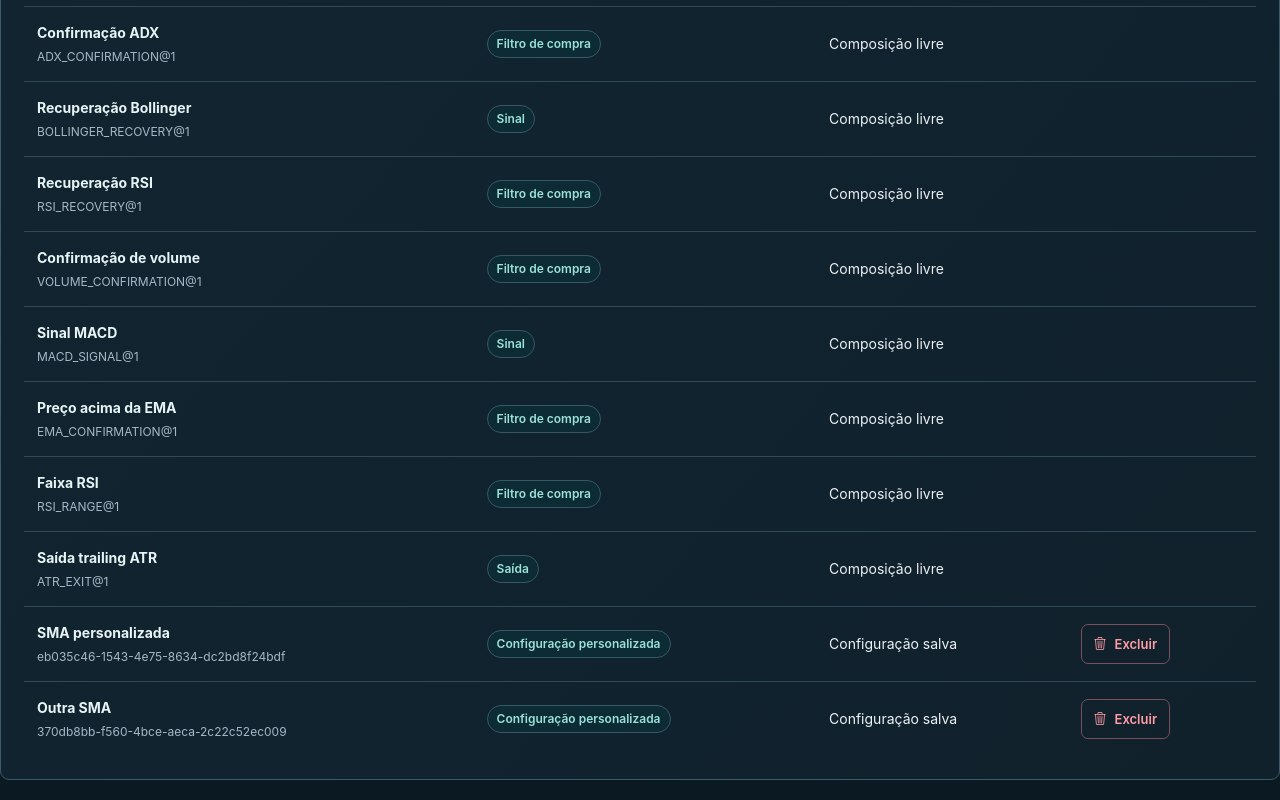
Test: não confunde outro cadastro da mesma estratégia base com um vínculo direto
The image size is (1280, 800).
Later steps or results of the test are not shown.
(page scrolled)
What coordinates should you click on to do the following:
click the button "Excluir" in the row of "SMA personalizada"
I would click on:
 (1125, 644)
Its box is x1=1080 y1=624 x2=1170 y2=664.
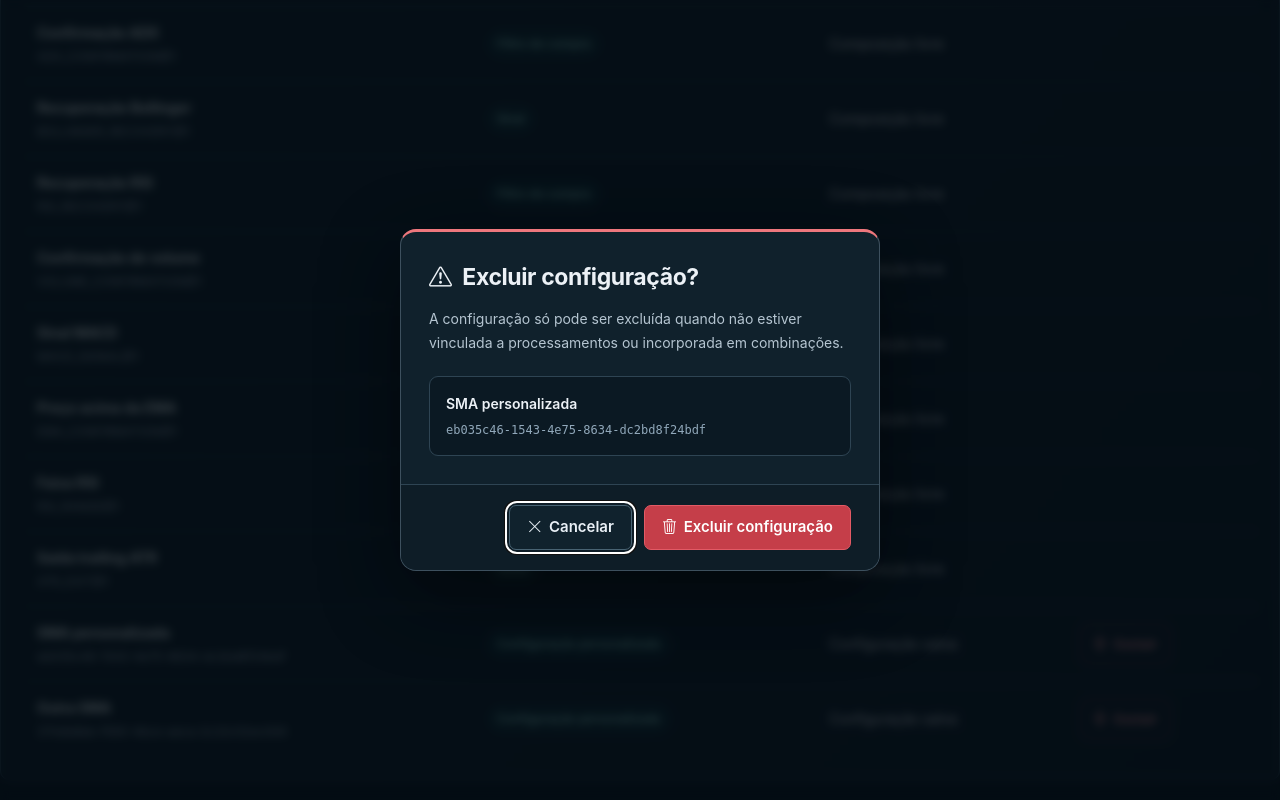
Expected: the button "Excluir configuração" is enabled, x1=644 y1=505 x2=851 y2=550
